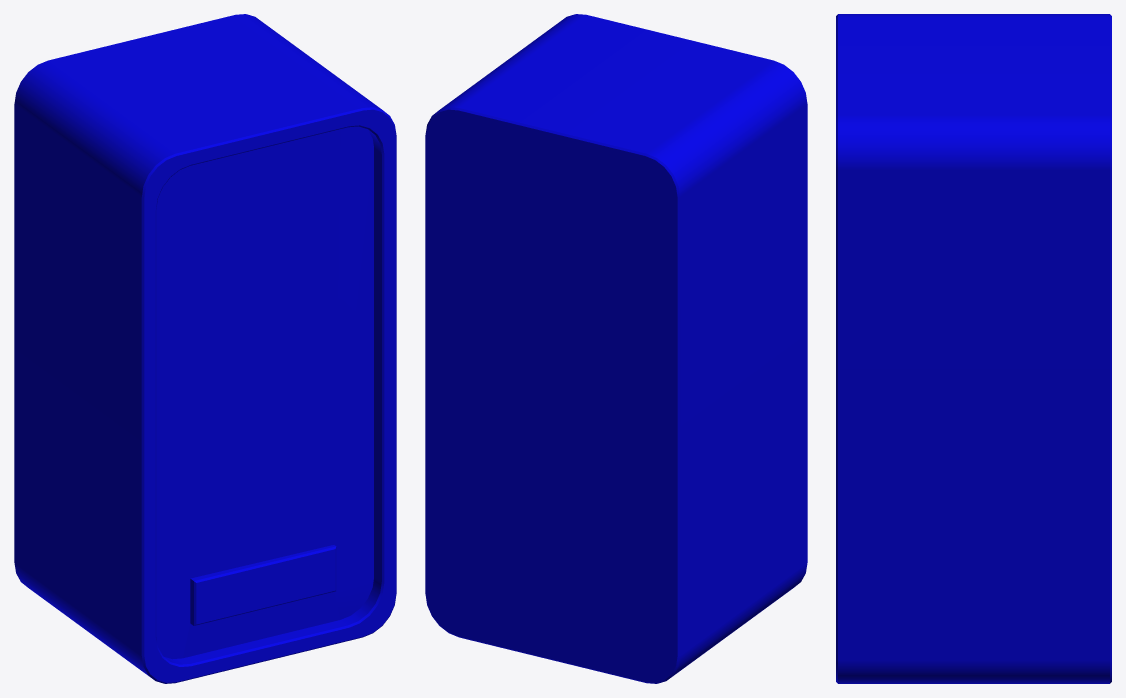
Rendered from Mesh_Speaker.fbx.
The picture shows the model from 3 angles, left to right: view 1: azimuth 30°, elevation 25°; view 2: azimuth 150°, elevation 25°; view 3: azimuth 270°, elevation 25°; orthographic projection. The views are drawn at different scales.
Visible parts, largest first — view 1: Speaker_low; view 2: Speaker_low; view 3: Speaker_low.
Part boxes in pixels (left/top/right/bottom): Speaker_low: left=14, top=14, right=396, bottom=683; Speaker_low: left=425, top=14, right=807, bottom=683; Speaker_low: left=836, top=14, right=1111, bottom=683.
Size of the model in its own units: 22.87 by 45.42 by 20.09.
